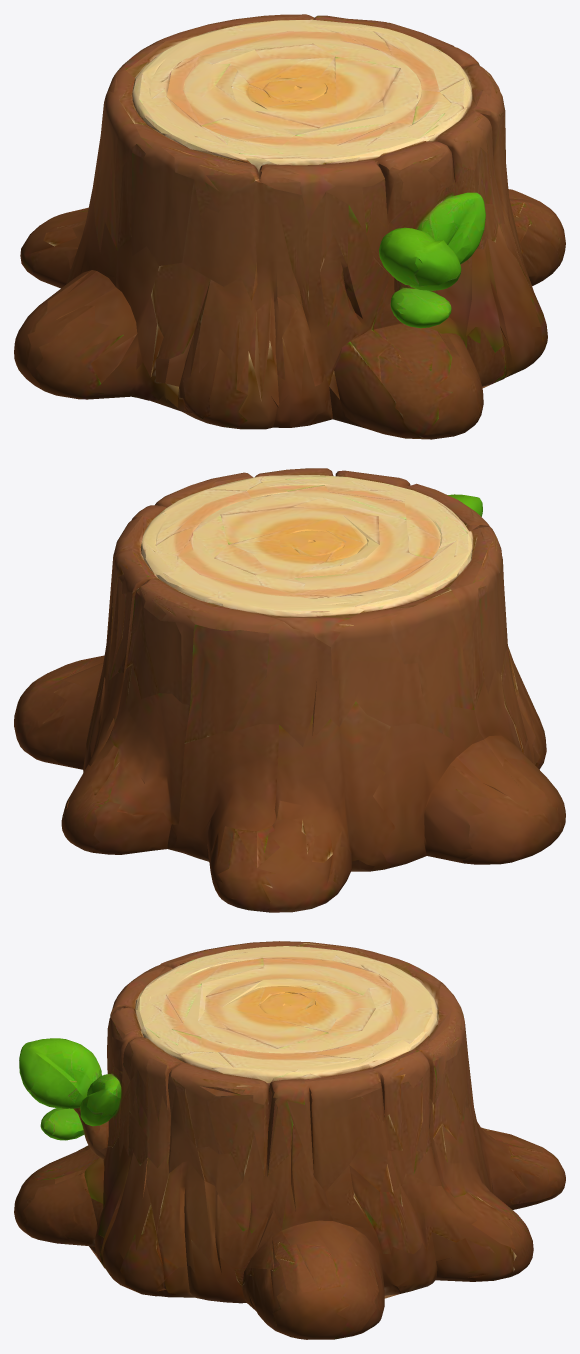
Rendered from oe-stub.glb.
3 views of the same model, one above another, from view 1: azimuth 30°, elevation 25°; view 2: azimuth 150°, elevation 25°; view 3: azimuth 270°, elevation 25° (orthographic). The views are drawn at different scales.
Size of the model in its own units: 1.9 by 0.8234 by 1.89.
Materials: 1 (1 with a texture image).
